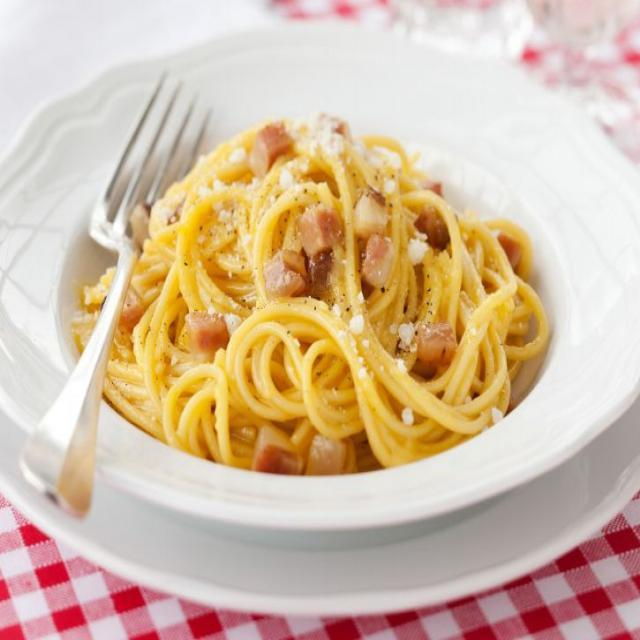Pasta with carbonara sauce: (100, 86, 546, 512)
